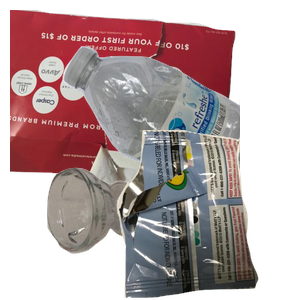glass: (44, 165, 178, 300)
paper: (10, 10, 238, 190)
plastic: (60, 44, 300, 224)
trash: (114, 130, 300, 300)
